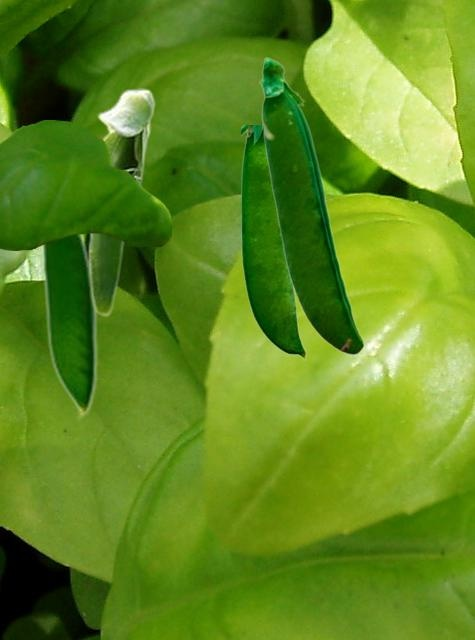pea: (259, 56, 363, 354), (87, 88, 155, 316), (241, 125, 305, 359), (38, 235, 97, 420)
